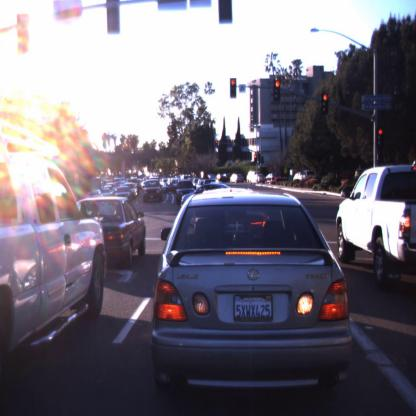trafficlight: (321, 91, 329, 117), (274, 78, 282, 102), (377, 126, 383, 153), (230, 77, 236, 99), (215, 138, 219, 149), (255, 153, 258, 164)
